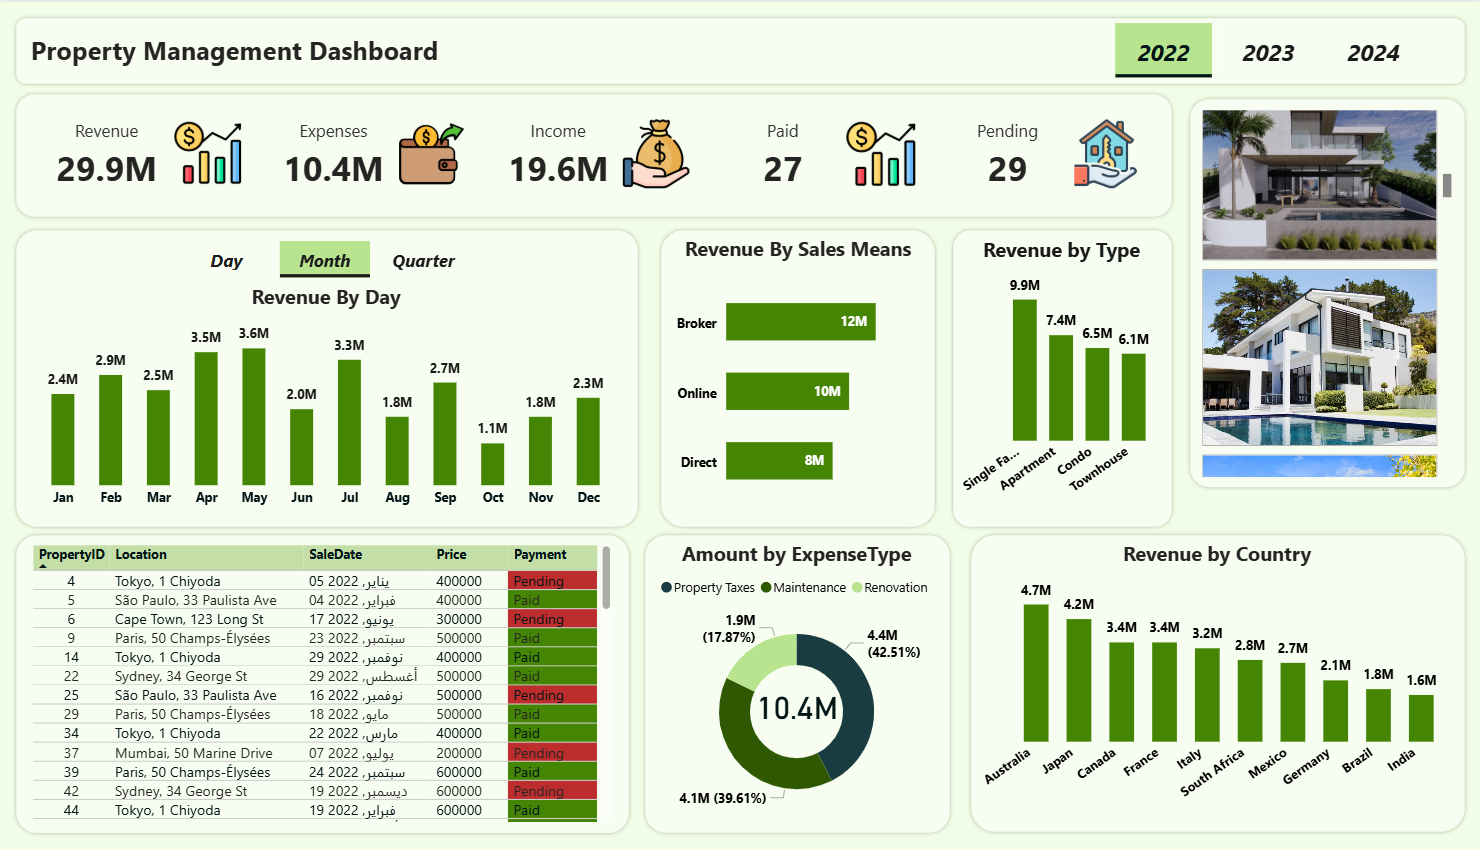

What the dashboard file says about the page in this screenshot:
{"tool":"powerbi","page":{"name":"Page 1","canvas":[1400,800],"ordinal":0},"visuals":[{"type":"shape","box":[12.3,11.3,1374.5,69.8],"z":0},{"type":"textbox","box":[12,24,420,44],"z":1000},{"type":"shape","box":[12.3,83,1098.1,123.6],"z":2000},{"type":"shape","box":[12.3,211.3,594.3,287.7],"z":3000},{"type":"shape","box":[896.2,211.3,214.2,287.7],"z":4000},{"type":"shape","box":[620.8,211.3,266,287.7],"z":5000},{"type":"shape","box":[12,499,586,289],"z":6000},{"type":"shape","box":[605.7,499.1,295.3,288.7],"z":7000},{"type":"shape","box":[1120,88,267,374],"z":8000},{"type":"advancedSlicerVisual","fields":{"Values":["Date_Table.Year"]},"box":[1048.1,15.1,300,61.3],"z":9000},{"type":"cardVisual","fields":{"Data":["Measures_Table.Revenue","Measures_Table.Expenses","Measures_Table.Income","Measures_Table.Sold Properties","Measures_Table.Pending"]},"box":[26.4,87.7,1068.9,112.3],"z":10000},{"type":"clusteredColumnChart","title":"Revenue By Day","fields":{"Category":["Date_Table.Month"],"Y":["Measures_Table.Revenue"]},"box":[26.4,265.1,564.2,220.8],"z":11000},{"type":"advancedSlicerVisual","fields":{"Values":["Date Switch.Date Switch"]},"box":[167,220.8,284,44.3],"z":12000},{"type":"tableEx","fields":{"Values":["Sales_Table.PropertyID","Property_Table.Location","Sales_Table.SaleDate","Sum(Property_Table.Price)","Sales_Table.Payment Status"]},"box":[26,508,556,271],"z":13000},{"type":"clusteredBarChart","title":"Revenue By Sales Means","fields":{"Y":["Measures_Table.Revenue"],"Category":["Sales_Table.Means of Sales"]},"box":[633,219.8,241.5,266],"z":14000},{"type":"clusteredColumnChart","fields":{"Category":["Property_Table.Type"],"Y":["Measures_Table.Revenue"]},"box":[902.8,220.8,199.1,265.1],"z":15000},{"type":"donutChart","title":"Amount by ExpenseType","fields":{"Category":["Expense_Table.ExpenseType"],"Y":["Sum(Expense_Table.Amount)"]},"box":[617.9,507.5,268.9,270.8],"z":16000},{"type":"advancedSlicerVisual","fields":{"Values":["Property_Table.Img"]},"box":[1130.1,96.8,245.2,353.8],"z":17000},{"type":"shape","box":[913.2,499.1,473.6,287.7],"z":18000},{"type":"clusteredColumnChart","fields":{"Category":["Property_Table.Country"],"Y":["Measures_Table.Revenue"]},"box":[922.6,507.5,452.8,262.3],"z":19000},{"type":"card","fields":{"Values":["Measures_Table.Expenses"]},"box":[707.5,638.7,90.6,50],"z":20000}]}

Visuals, with their boxes in screenshot pixels (x1, y1, x2, y2), scaled from the page's 1400x800 canvas onto the 1480x850 screenshot:
shape: x1=13, y1=12, x2=1466, y2=86
textbox: x1=13, y1=26, x2=457, y2=72
shape: x1=13, y1=88, x2=1174, y2=220
shape: x1=13, y1=225, x2=641, y2=530
shape: x1=947, y1=225, x2=1174, y2=530
shape: x1=656, y1=225, x2=937, y2=530
shape: x1=13, y1=530, x2=632, y2=837
shape: x1=640, y1=530, x2=952, y2=837
shape: x1=1184, y1=94, x2=1466, y2=491
advancedSlicerVisual - Date_Table.Year: x1=1108, y1=16, x2=1425, y2=81
cardVisual - Measures_Table.Revenue x Measures_Table.Expenses: x1=28, y1=93, x2=1158, y2=212
"Revenue By Day" clusteredColumnChart: x1=28, y1=282, x2=624, y2=516
advancedSlicerVisual - Date Switch.Date Switch: x1=177, y1=235, x2=477, y2=282
tableEx - Sales_Table.PropertyID x Property_Table.Location: x1=27, y1=540, x2=615, y2=828
"Revenue By Sales Means" clusteredBarChart: x1=669, y1=234, x2=924, y2=516
clusteredColumnChart - Property_Table.Type x Measures_Table.Revenue: x1=954, y1=235, x2=1165, y2=516
"Amount by ExpenseType" donutChart: x1=653, y1=539, x2=937, y2=827
advancedSlicerVisual - Property_Table.Img: x1=1195, y1=103, x2=1454, y2=479
shape: x1=965, y1=530, x2=1466, y2=836
clusteredColumnChart - Property_Table.Country x Measures_Table.Revenue: x1=975, y1=539, x2=1454, y2=818
card - Measures_Table.Expenses: x1=748, y1=679, x2=844, y2=732
